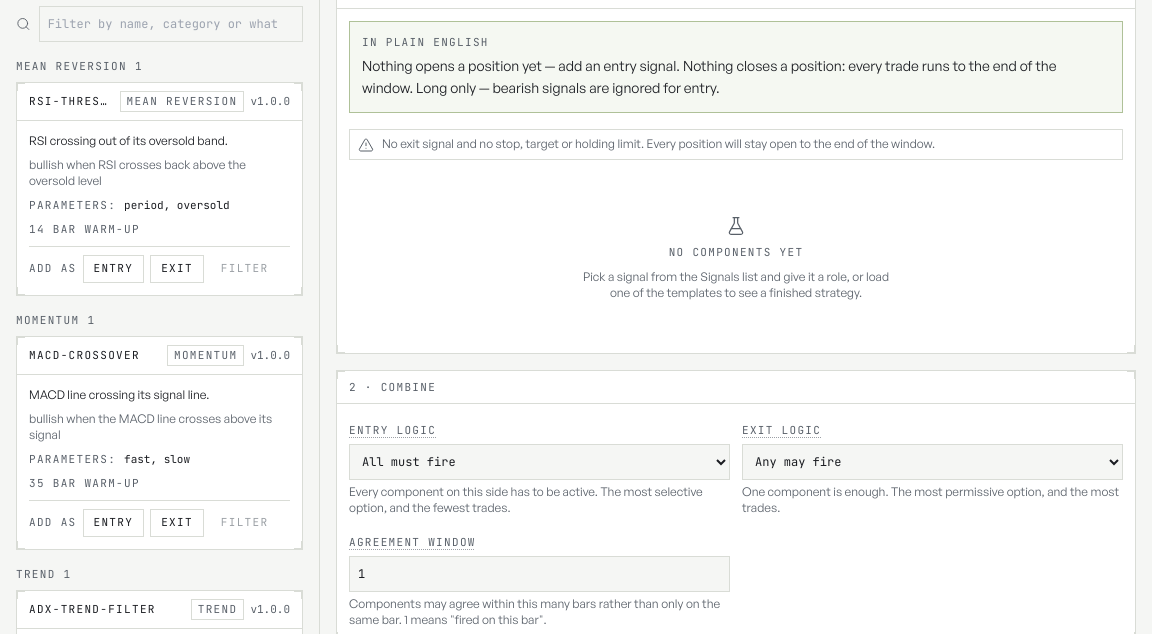
StrategyBuilder › saves the spec it is showing, with roles and coerced parameters
Click the button "Entry" below "14": [113, 268] box [82,254,144,282]
(page scrolled)
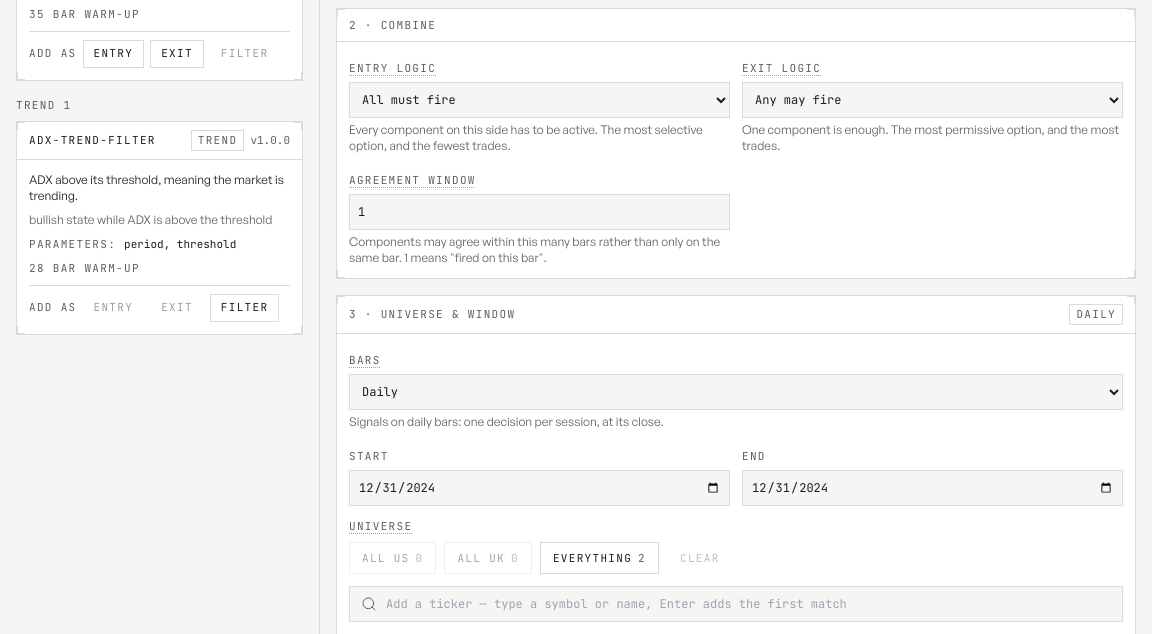
Click the button "Filter" below "28": [245, 308] box [210,294,279,322]
(page scrolled)
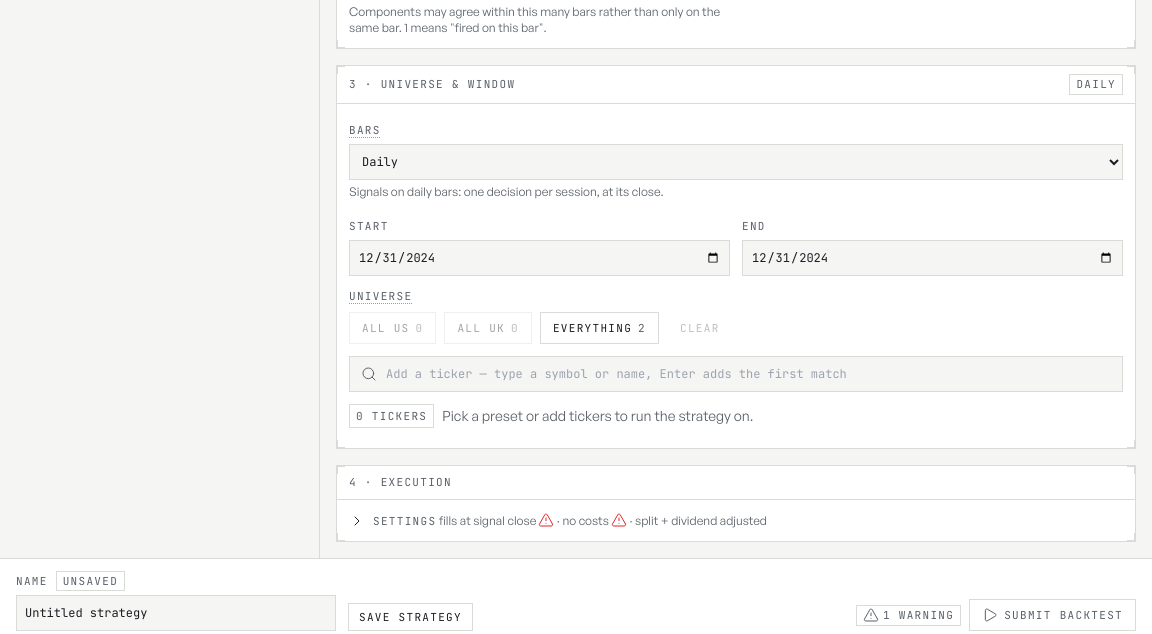
Replace the text in the field labelled "Name" with "Oversold in an uptrend": [176, 613] box [16,595,336,631]
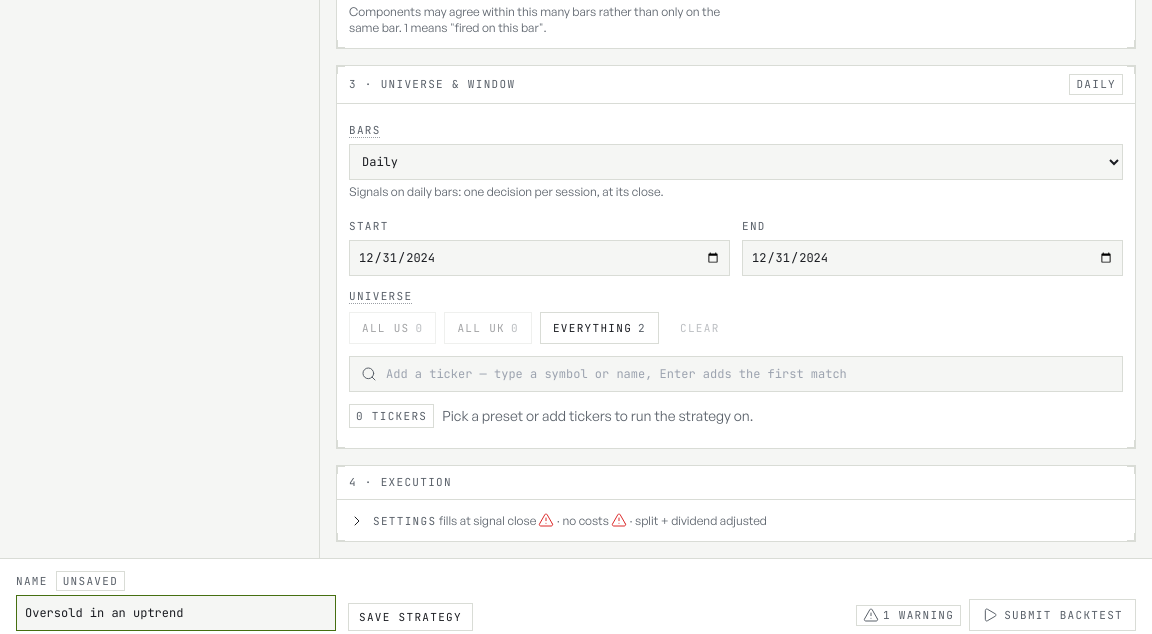
Click the button "Save strategy": [410, 617] box [348,603,473,631]
(page scrolled)
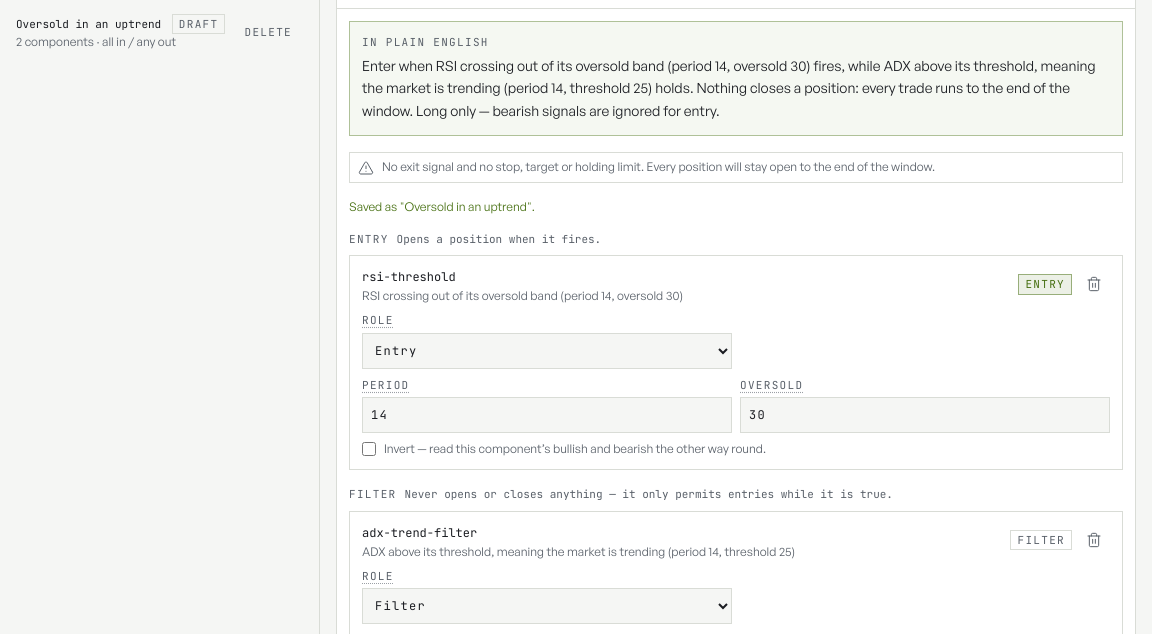
Check: the text "Oversold in an uptrend" is shown, box [16,16,164,32]
